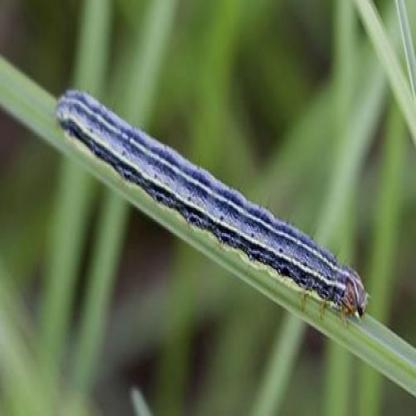armyworm: (39, 66, 385, 357)
